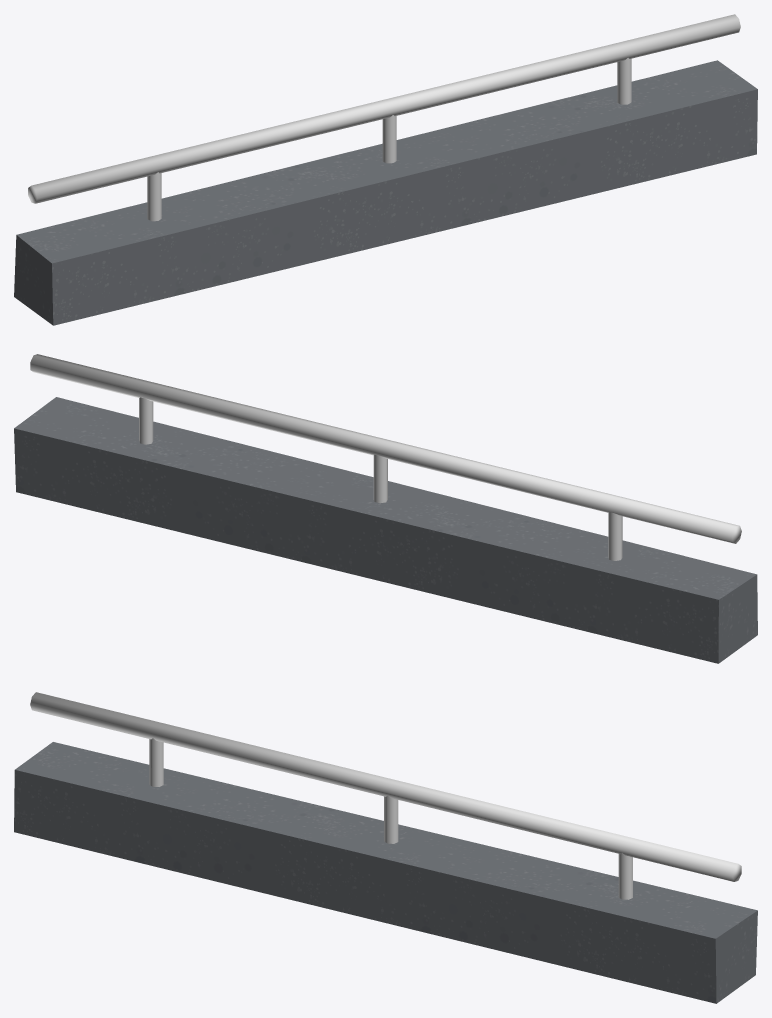
File: Railing_Straight.glb
The picture shows the model from 3 angles, top to bottom: view 1: azimuth 30°, elevation 25°; view 2: azimuth 150°, elevation 25°; view 3: azimuth 330°, elevation 25°; orthographic projection.
Parts seen in each view (by area): view 1: Railing; view 2: Railing; view 3: Railing.
Boxes of the visible parts, box(x1,y1,x2,y2) form: Railing: box(14, 14, 757, 325); Railing: box(14, 354, 757, 663); Railing: box(14, 692, 757, 1003).
Size of what is drawn, in the model's own units: 5.11 by 0.8604 by 0.5191.
Materials: 2 (2 with a texture image).
